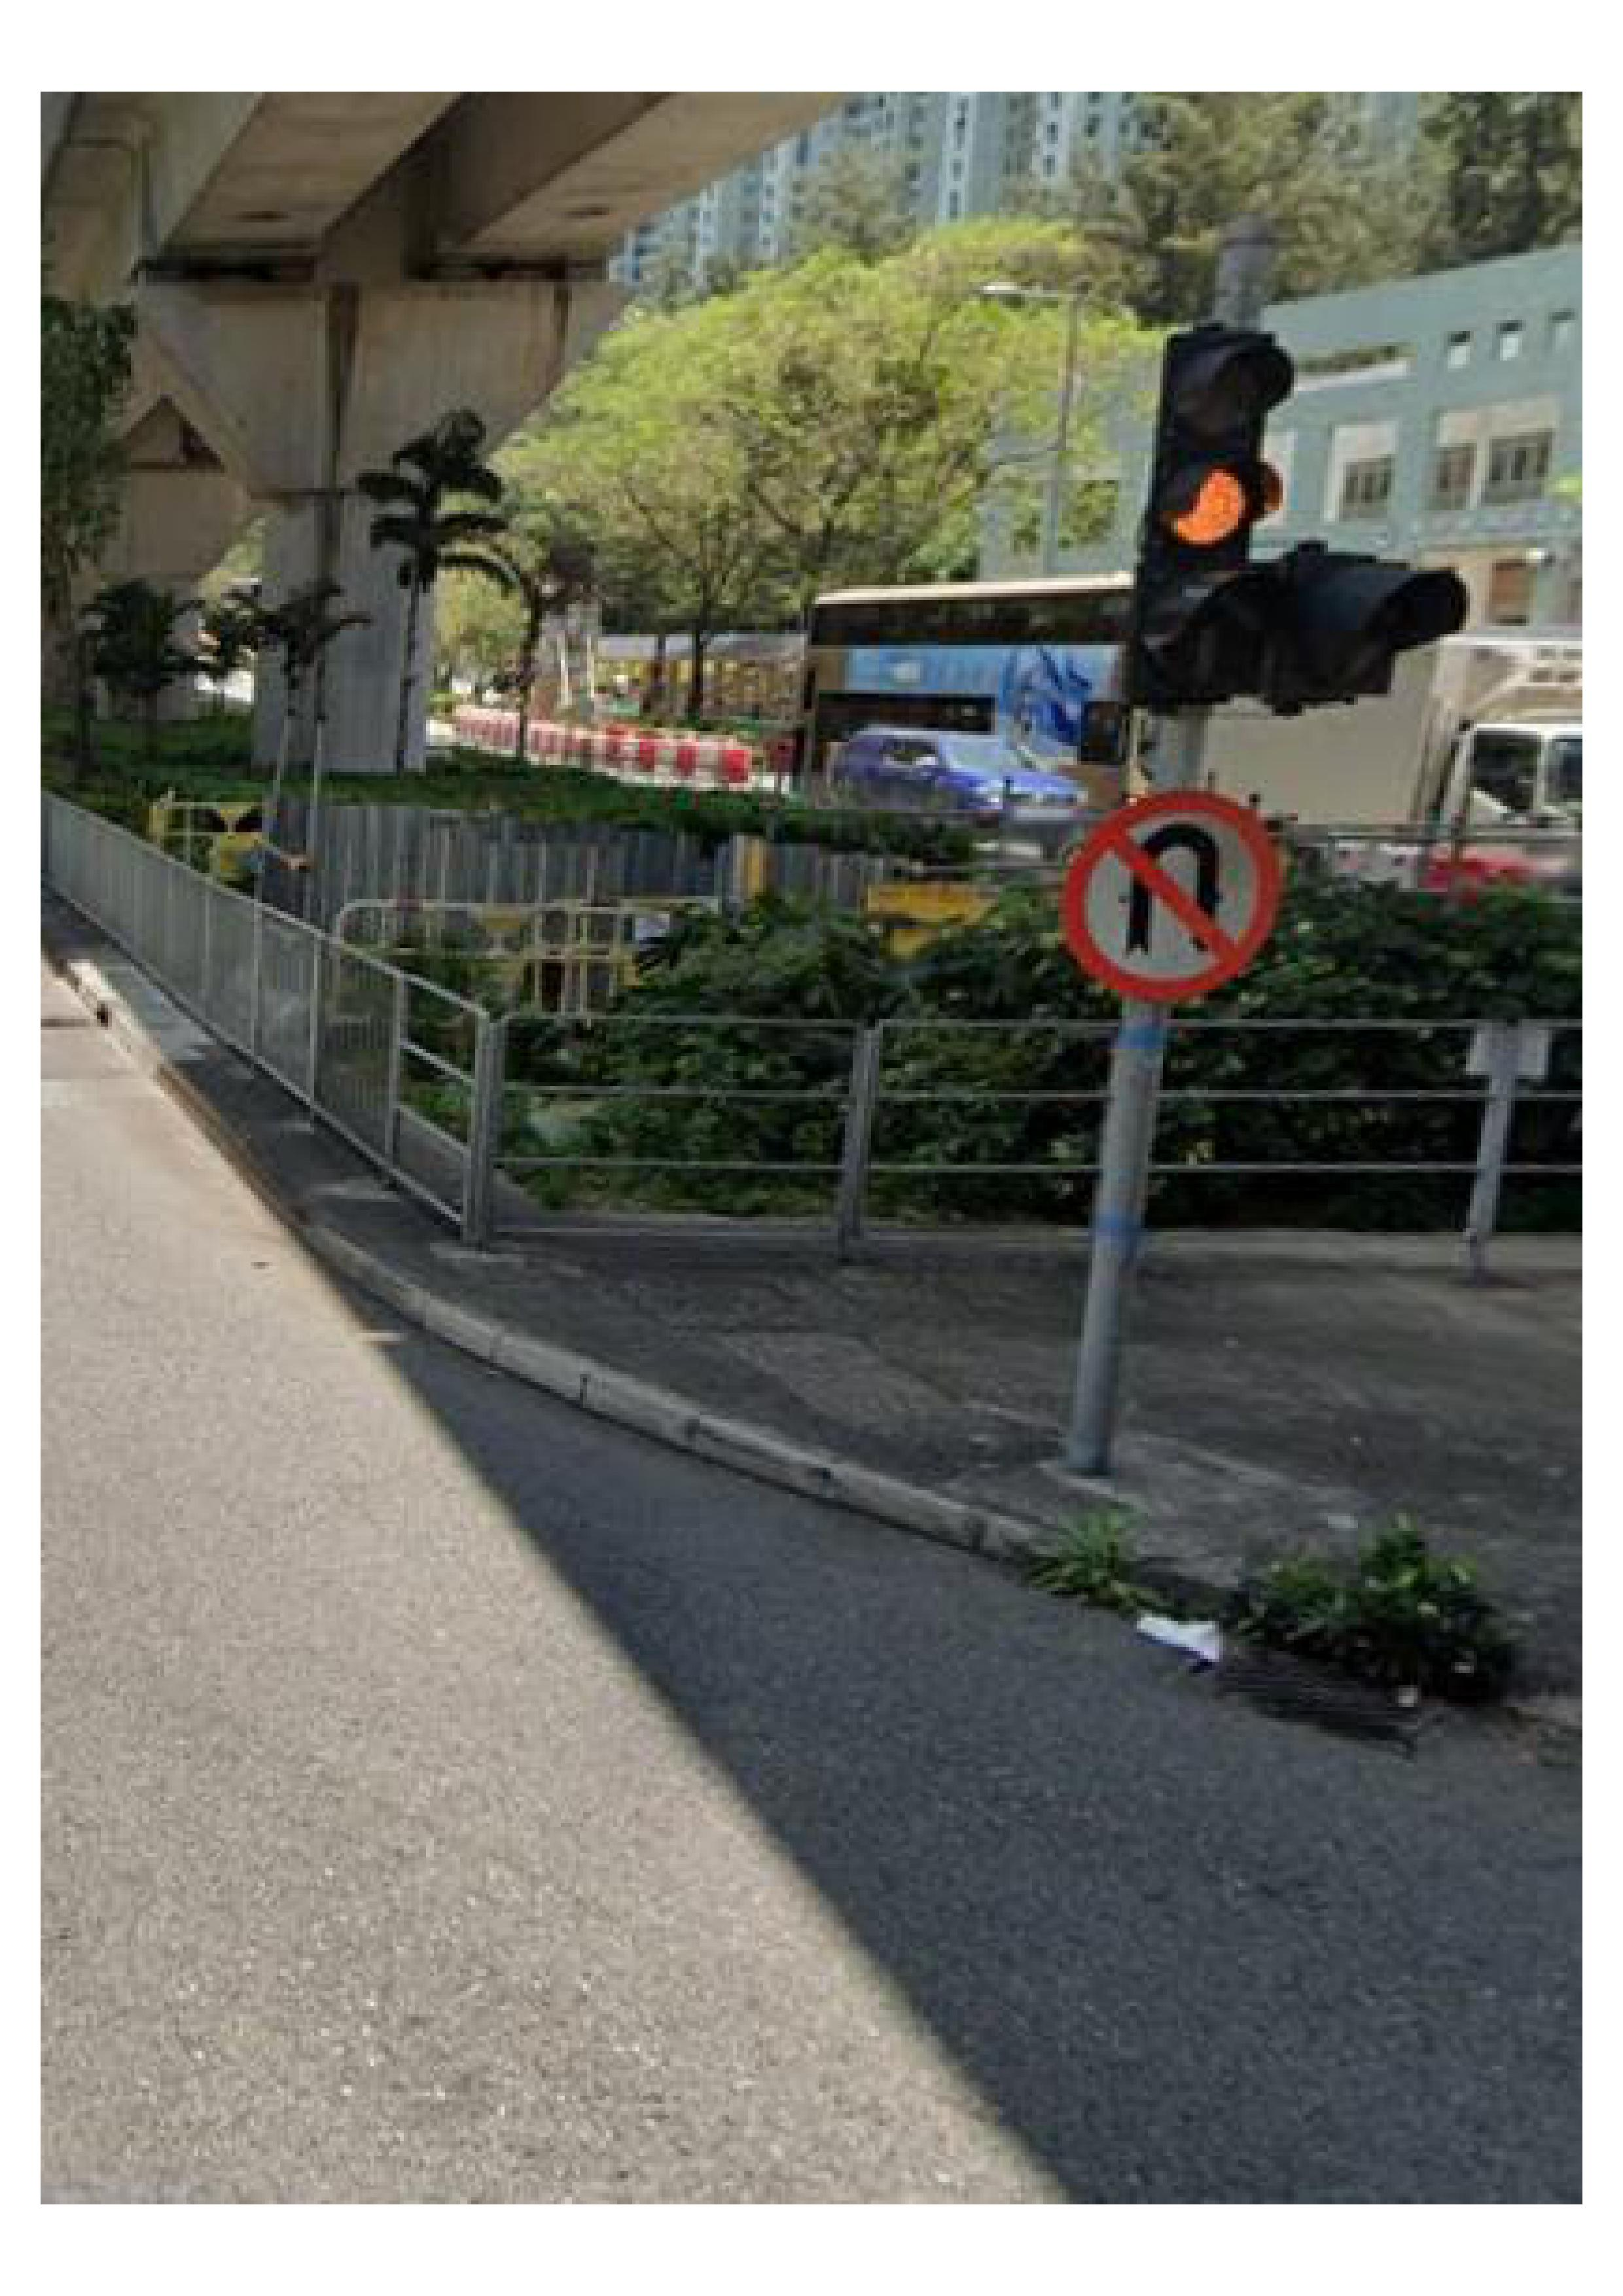No Uturn: (1045, 785, 1293, 1002)
